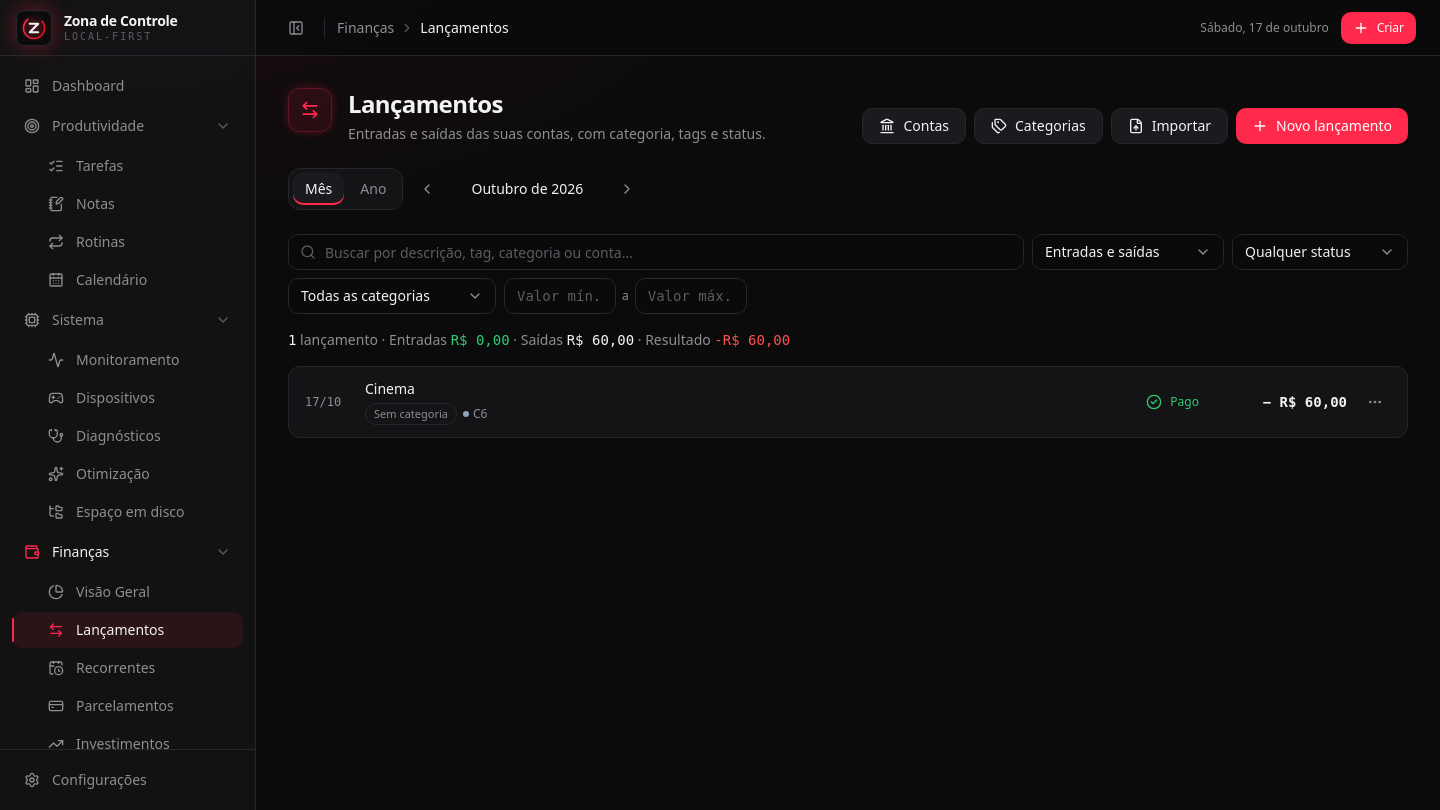
página de Lançamentos › só exclui após confirmação explícita
This screenshot has width=1440, height=810.
What coordinates should you click on to do the following:
click the button named "Ações do lançamento “Cinema”"
I would click on:
 (1375, 402)
Its box is [1359,386,1391,418].
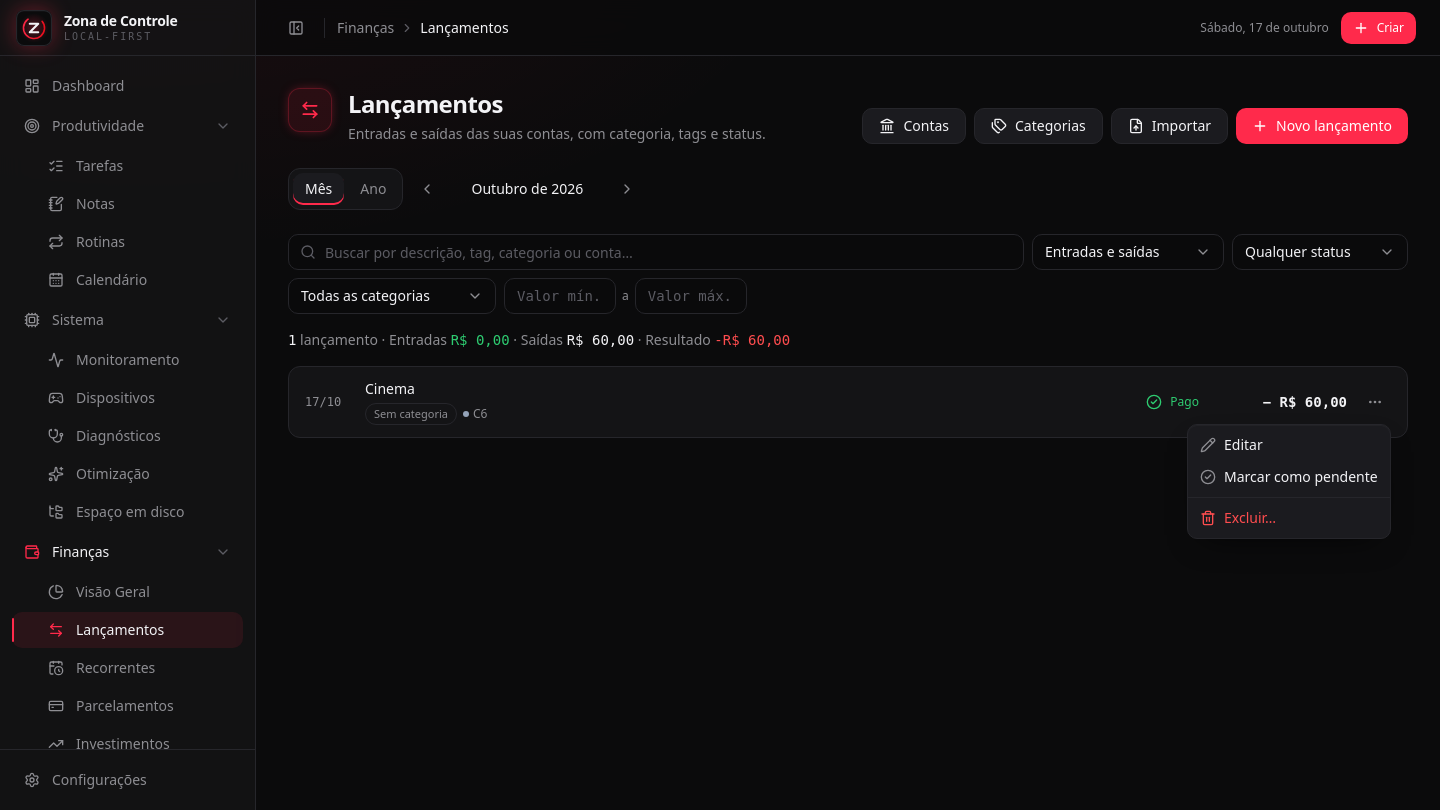
What coordinates should you click on to do the following:
click the menu item "Excluir…"
I would click on:
 (1238, 518)
Its box is [1200,508,1276,527].
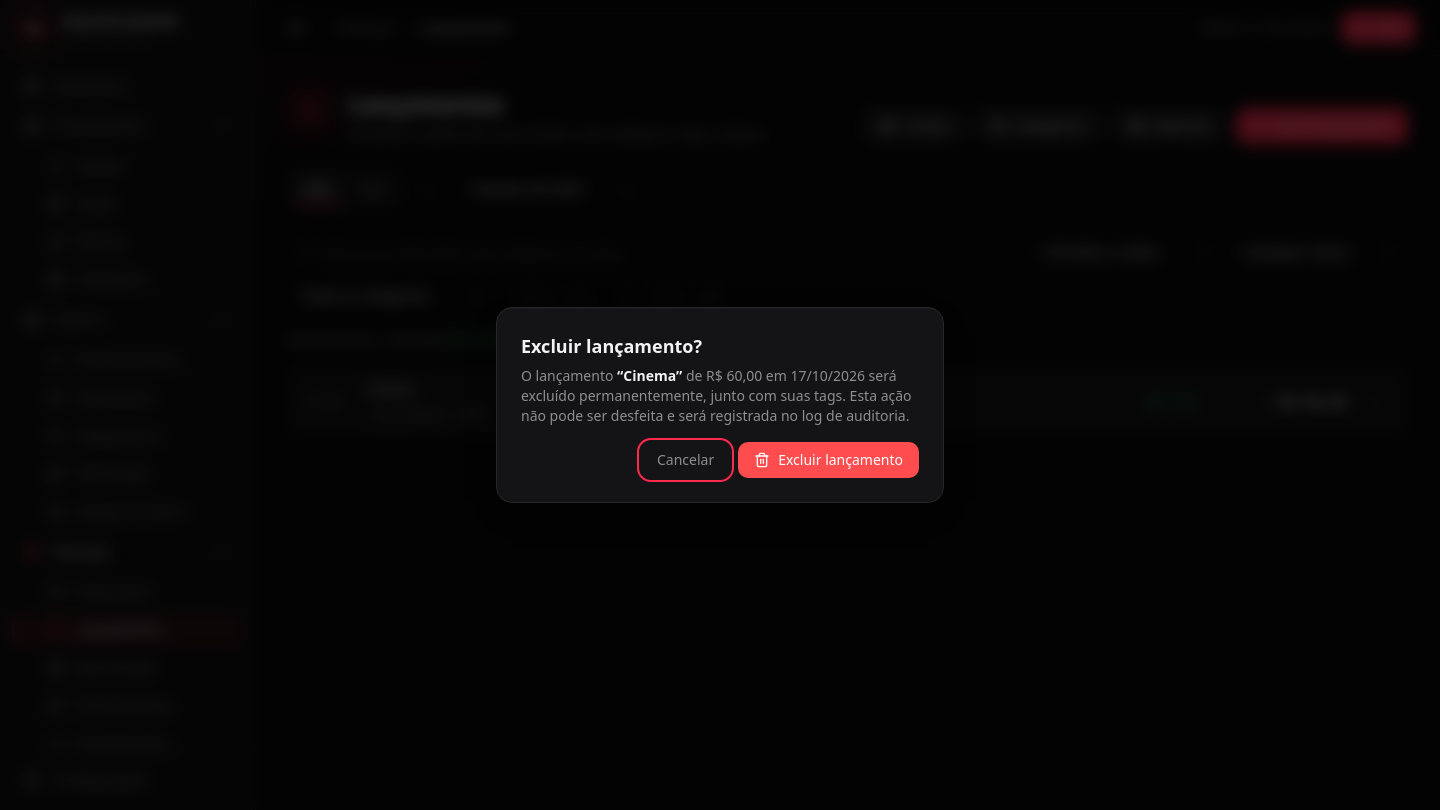
Check: the text "R$ 60,00" is shown, box [706,366,762,385]
Check: the text "registrada no log de auditoria" is shown, box [521,386,912,425]
What coordinates should you click on to do the following:
click the button "Cancelar"
I would click on:
 (686, 460)
Its box is [641,442,730,478].
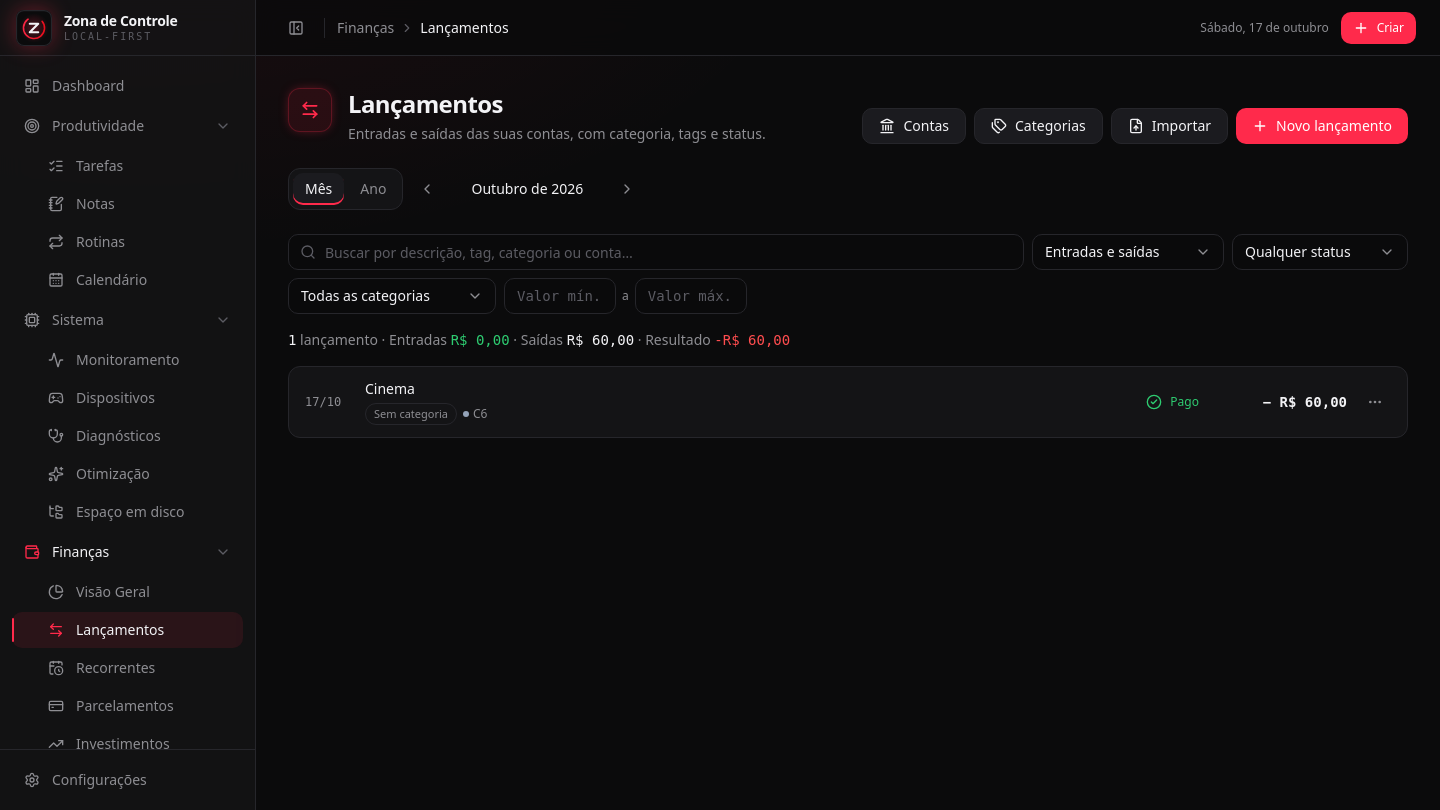
What coordinates should you click on to do the following:
click the button named "Ações do lançamento “Cinema”"
I would click on:
 (1375, 402)
Its box is [1359,386,1391,418].
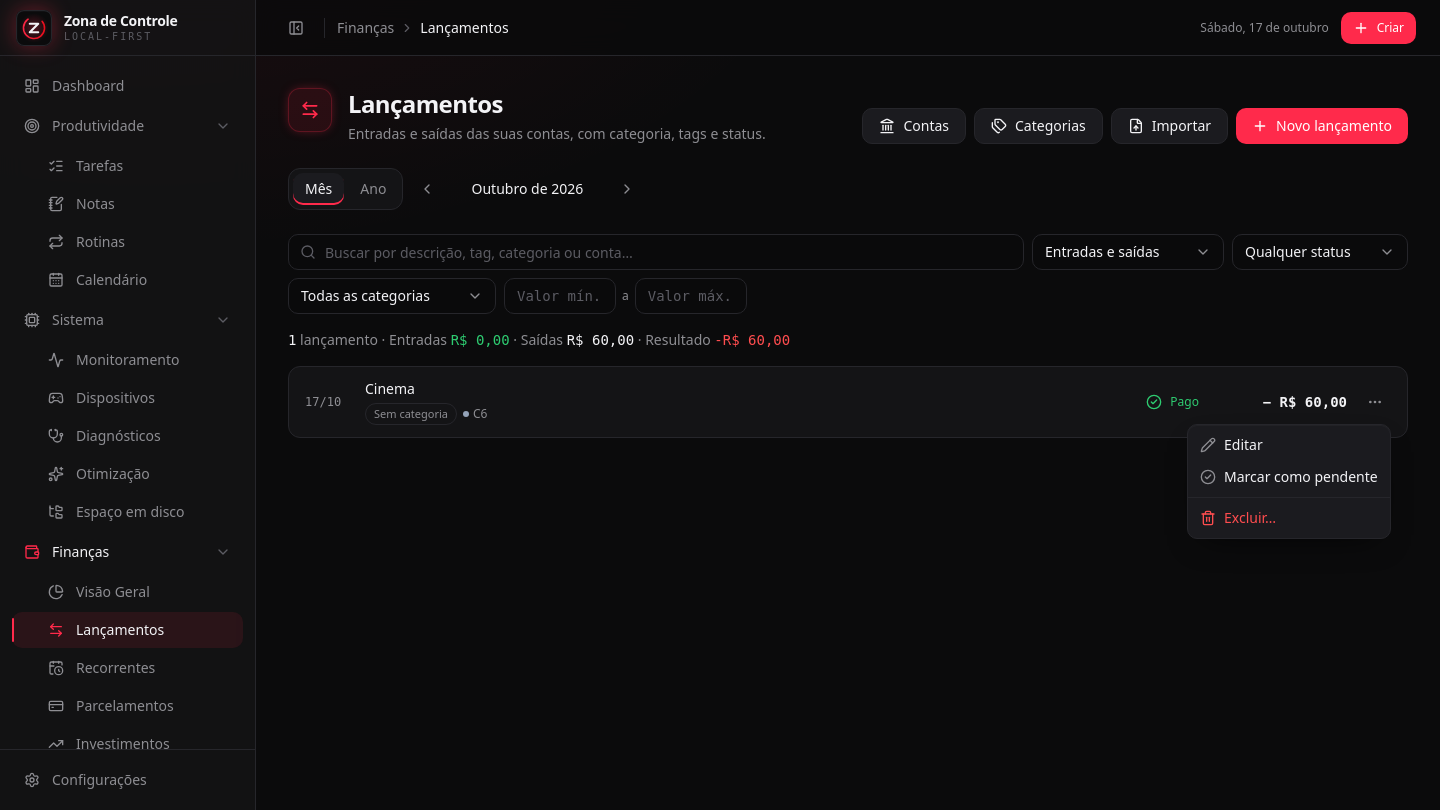
What coordinates should you click on to do the following:
click the menu item "Excluir…"
I would click on:
 (1238, 518)
Its box is [1200,508,1276,527].
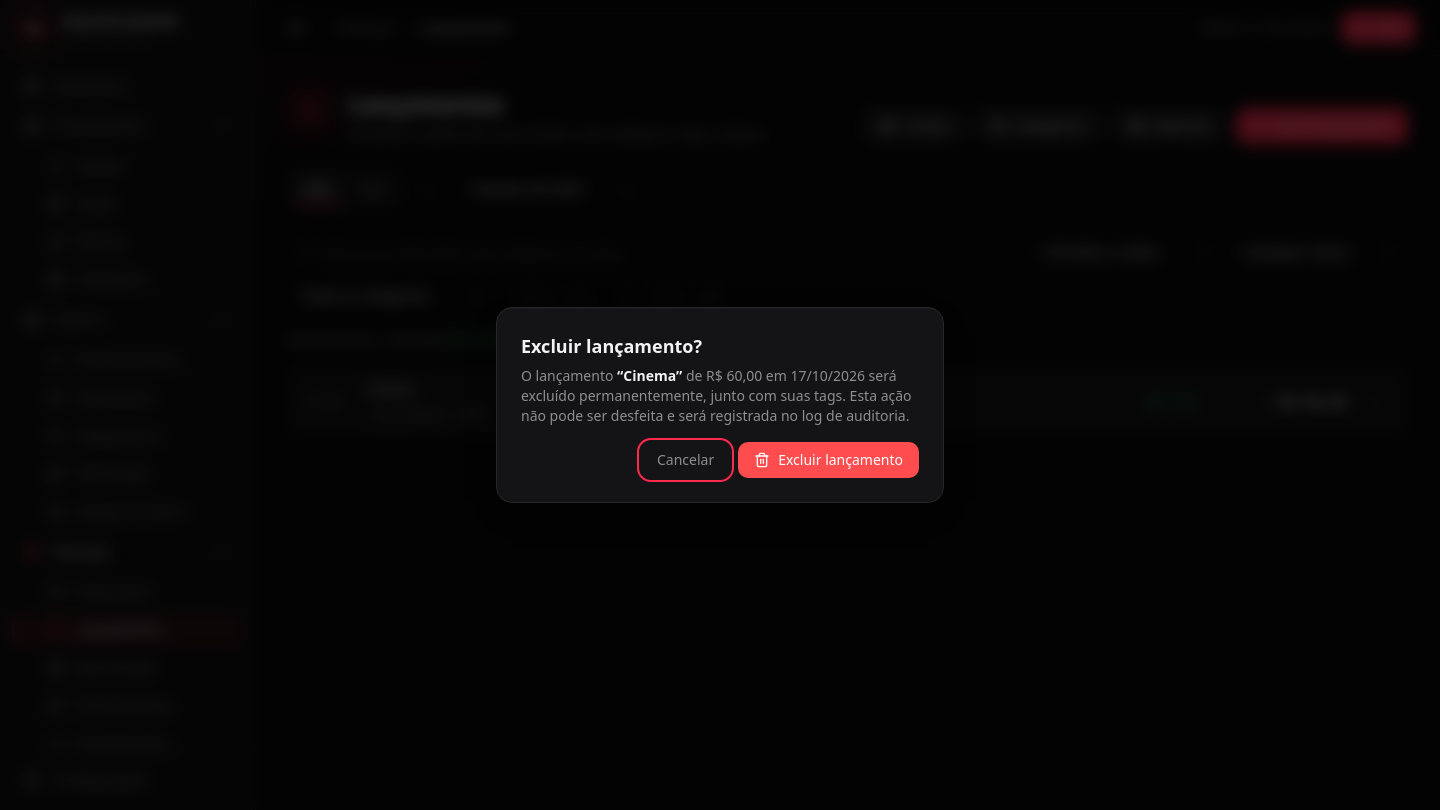
What coordinates should you click on to do the following:
click the button "Excluir lançamento"
I would click on:
 (829, 460)
Its box is [738,442,919,478].
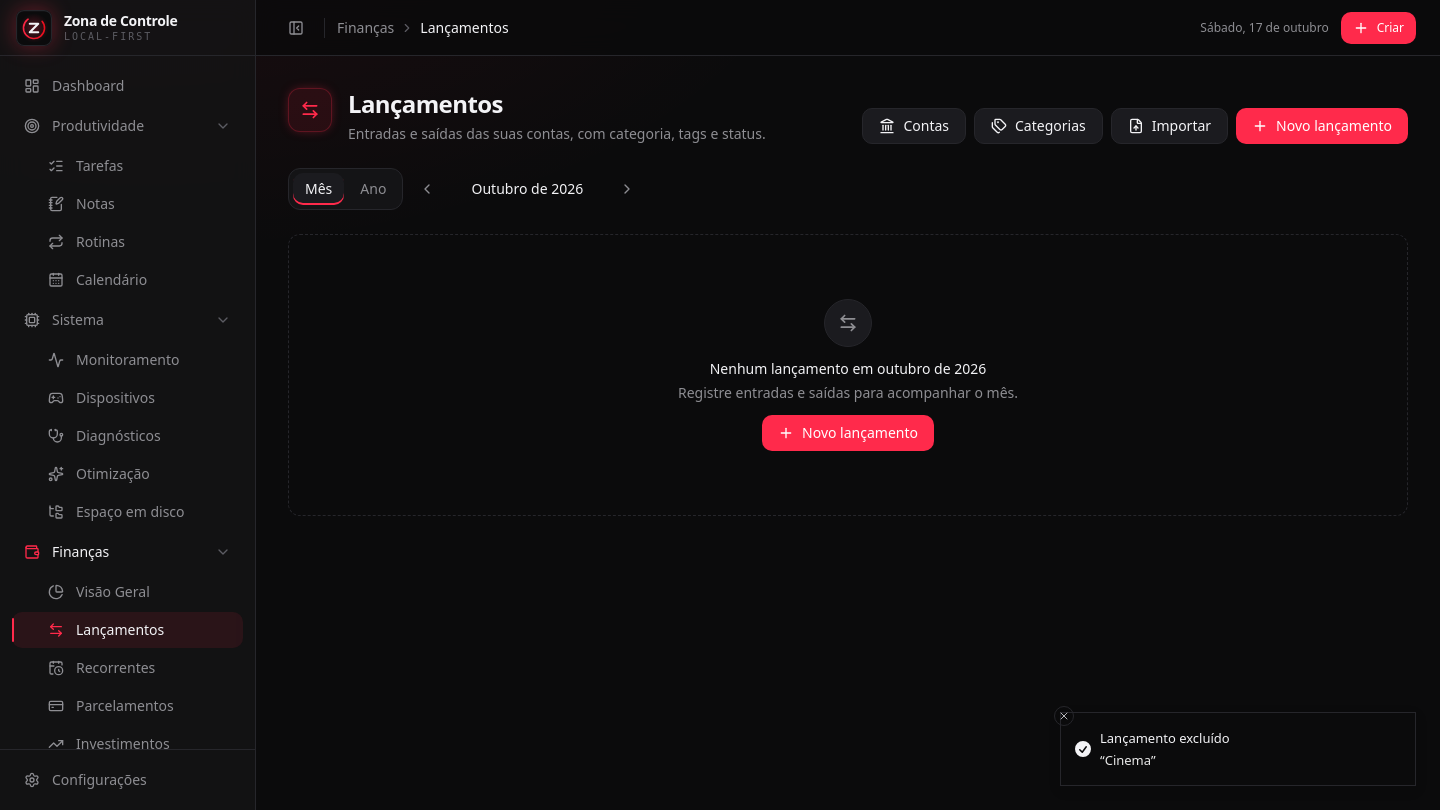
Check: the text "Nenhum lançamento em outubro de 2026" is shown, box [710,359,986,378]
